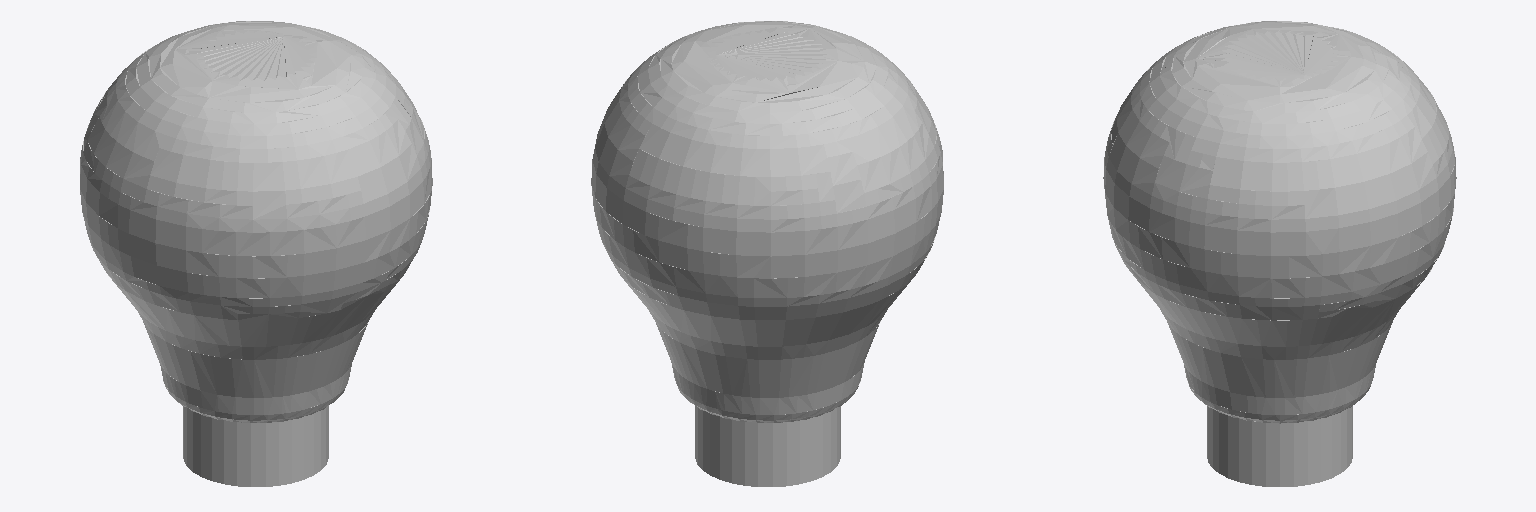
File: bulb.obj
3 renders of one model, left to right at view 1: azimuth 30°, elevation 25°; view 2: azimuth 150°, elevation 25°; view 3: azimuth 270°, elevation 25°, orthographic.
Visible parts, largest first — view 1: Cylinder.001, Cylinder; view 2: Cylinder.001, Cylinder; view 3: Cylinder.001, Cylinder.
Part boxes in pixels (bbox=[...]): Cylinder.001: bbox=[80, 21, 432, 422]; Cylinder: bbox=[183, 405, 328, 486]; Cylinder.001: bbox=[591, 21, 943, 422]; Cylinder: bbox=[695, 405, 840, 486]; Cylinder.001: bbox=[1103, 21, 1456, 423]; Cylinder: bbox=[1207, 406, 1352, 486].
Bounding box in the file's own units: 3.23 × 4.06 × 3.23.